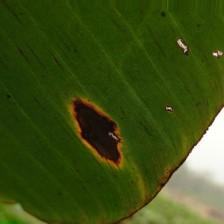cordana: (1, 0, 224, 224)
